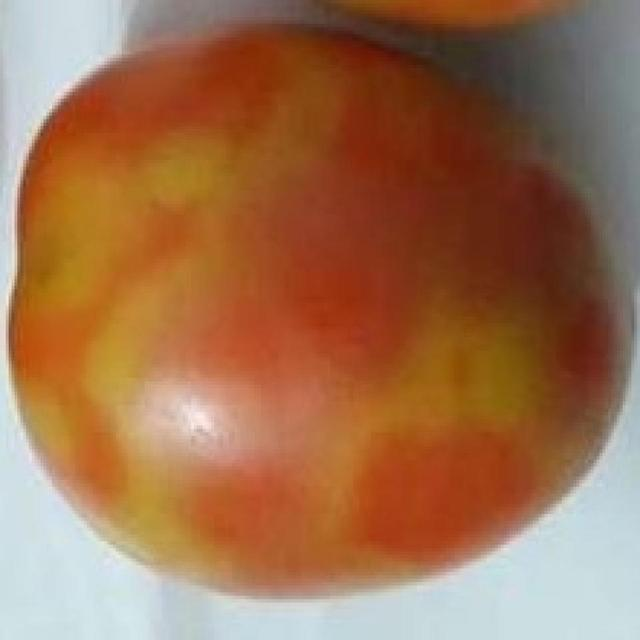Spotted wilt Virus Fruit: (6, 17, 423, 401)
